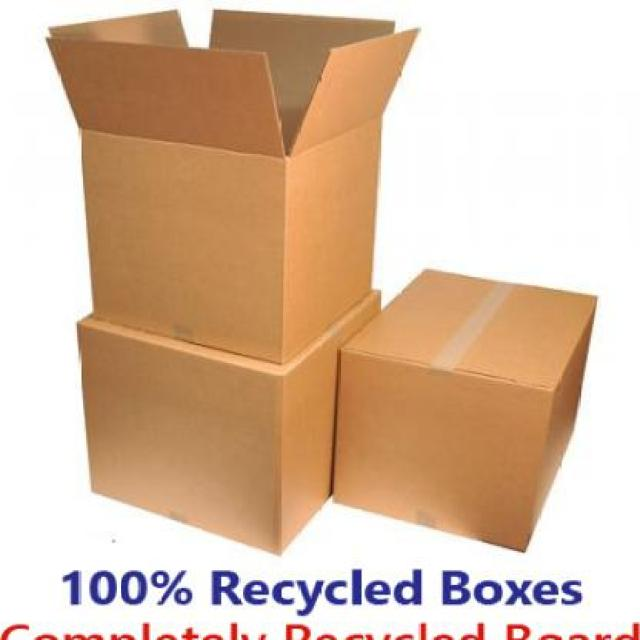box: (28, 3, 428, 366), (68, 271, 384, 570), (332, 257, 602, 564)
